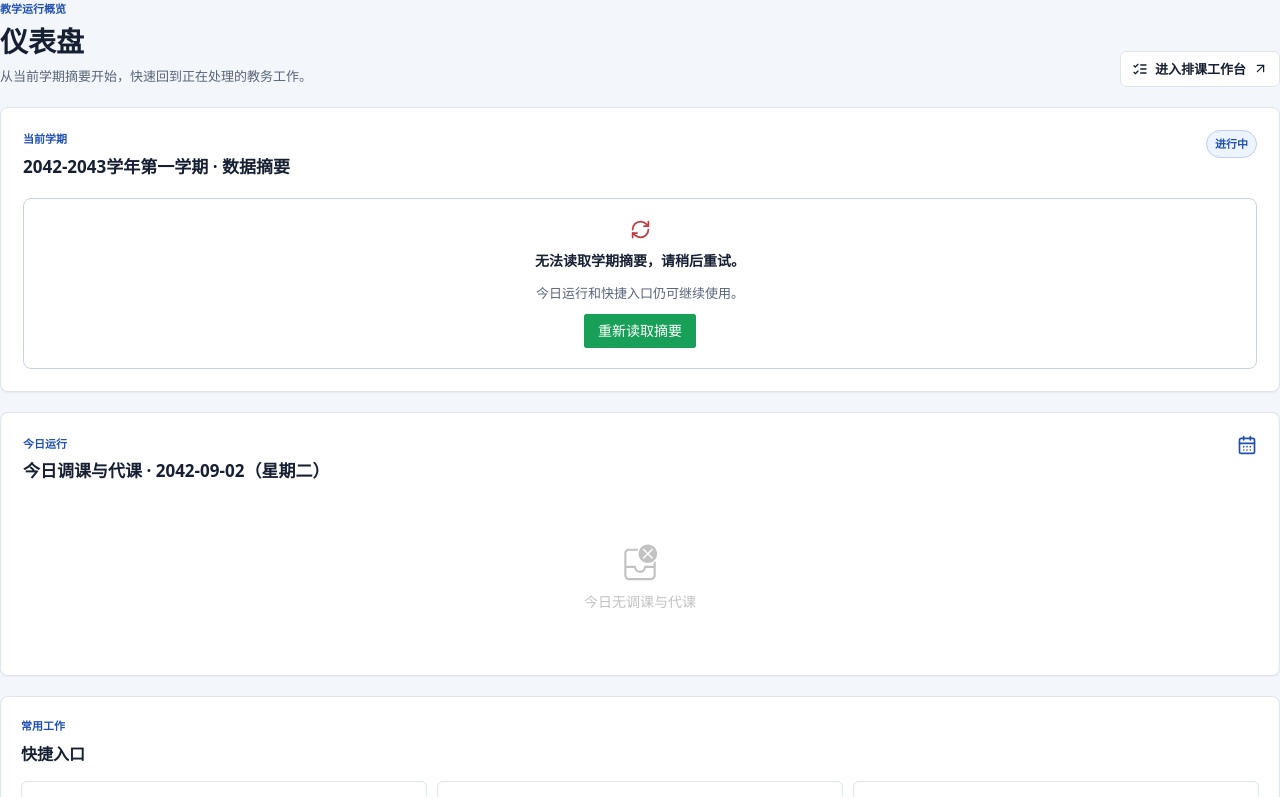
Scenario: Dashboard › 摘要请求失败时保留今日看板和快捷入口并显示局部重试
The width and height of the screenshot is (1280, 797).
Expected: the message with test id "dash-summary-error" shows "无法读取学期摘要", [535,251,745,270]
Expected: the element with test id "dash-today" shows "今日无调课与代课", [584,592,696,611]
Click the button with test id "dash-summary-retry" at (640, 331), box [584,314,696,348]
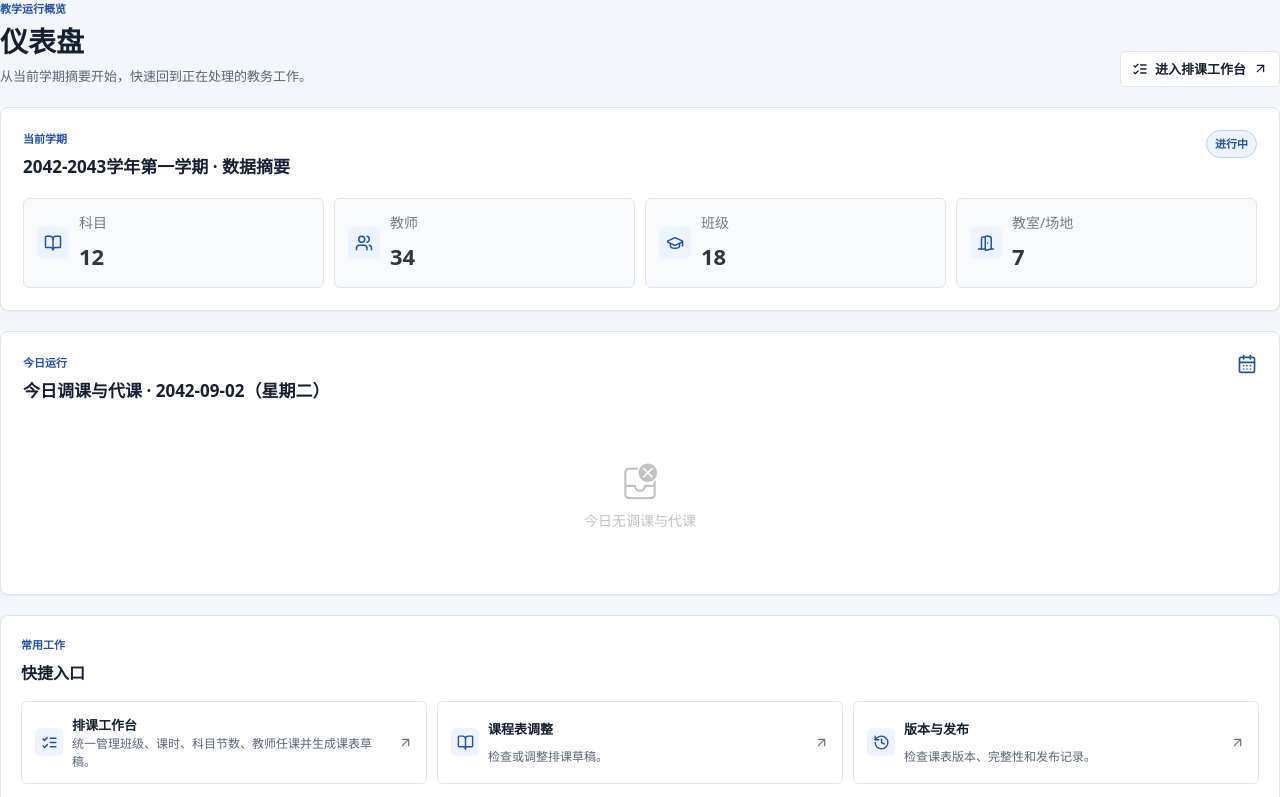
Expected: the element with test id "dash-summary" shows "12", [79,241,104,271]
